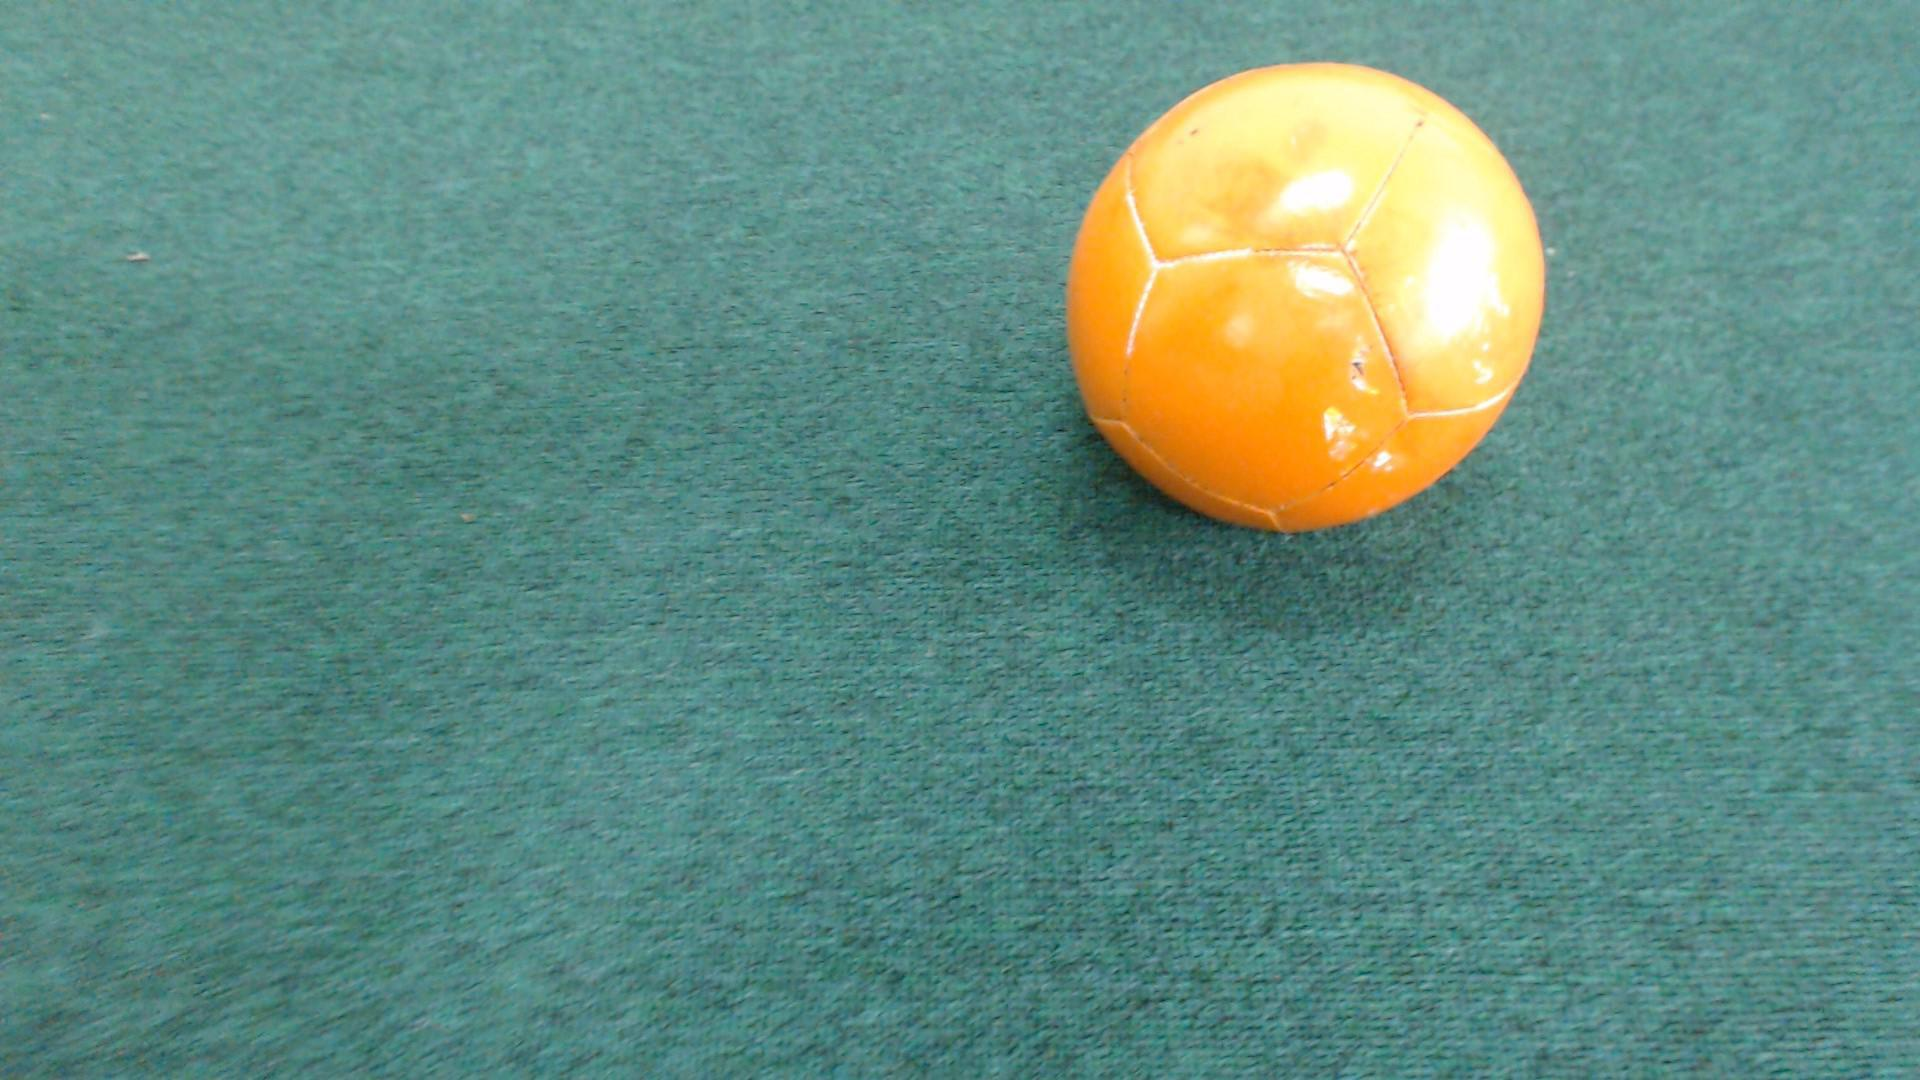bola: (1043, 37, 1553, 529)
